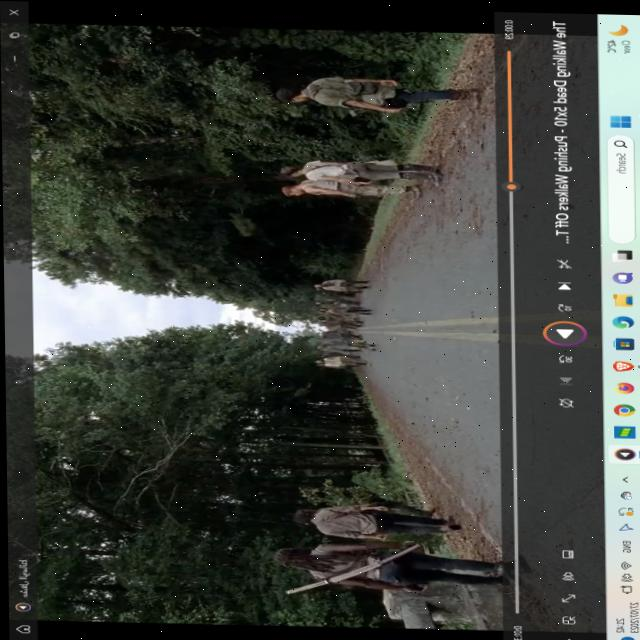Zombie: (314, 342, 326, 347), (317, 313, 326, 319), (313, 281, 322, 286), (314, 285, 322, 290), (318, 305, 325, 310), (318, 351, 325, 356), (315, 357, 323, 361), (316, 299, 322, 304), (319, 320, 325, 324), (322, 330, 326, 336), (316, 361, 323, 363)
